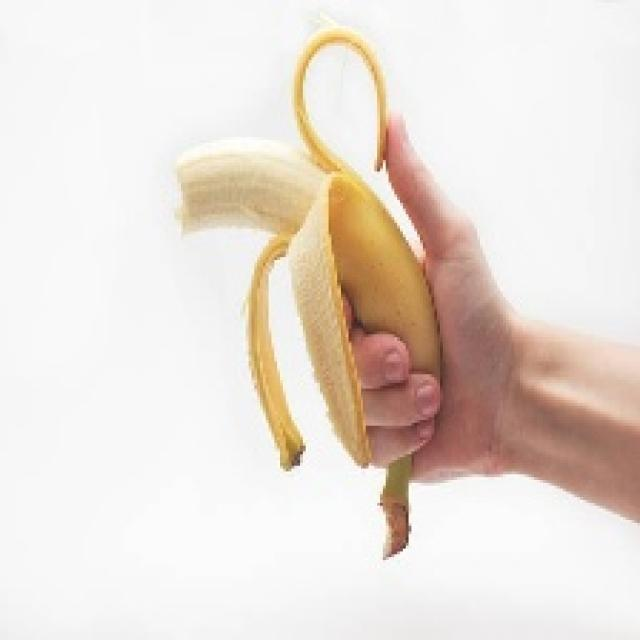Banana: (171, 23, 443, 557)
